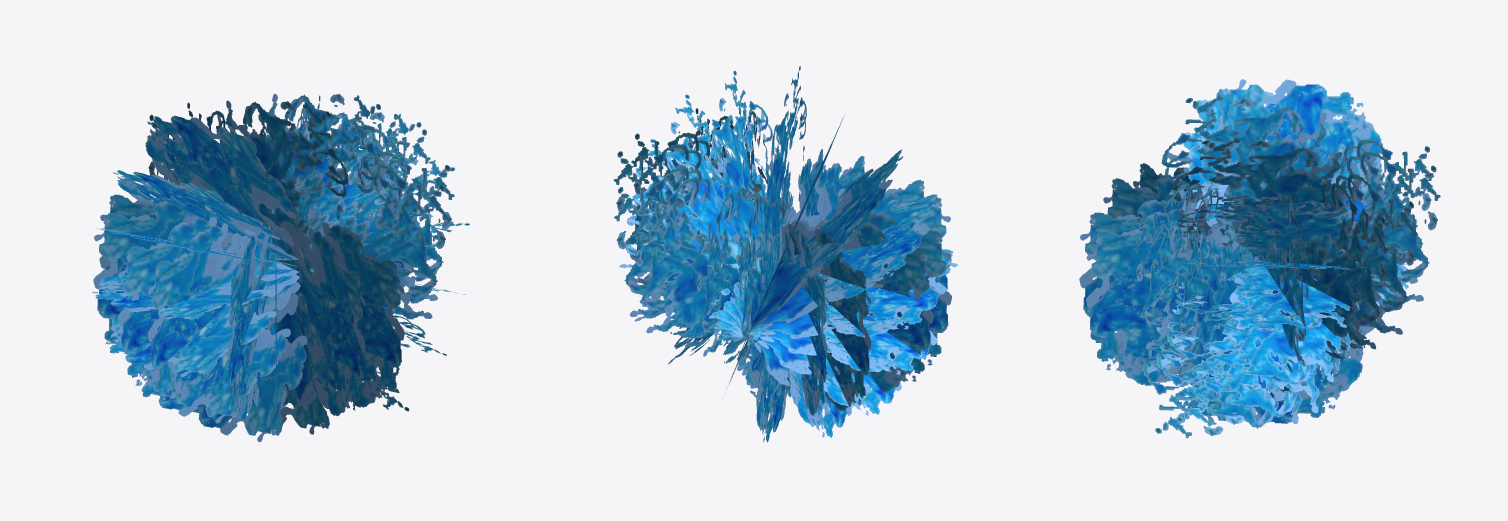
File: enemy4.fbx
3 views of the same model, side by side, from view 1: azimuth 30°, elevation 25°; view 2: azimuth 150°, elevation 25°; view 3: azimuth 270°, elevation 25° (orthographic). The views are drawn at different scales.
Visible parts, largest first — view 1: polySurface10; view 2: polySurface10; view 3: polySurface10.
Boxes of the visible parts, bbox=[...] form: polySurface10: bbox=[92, 93, 469, 442]; polySurface10: bbox=[613, 66, 957, 442]; polySurface10: bbox=[1079, 79, 1440, 438].
Size of the model in its own units: 2.46 by 2.27 by 2.51.
1 material, 1 textured.
